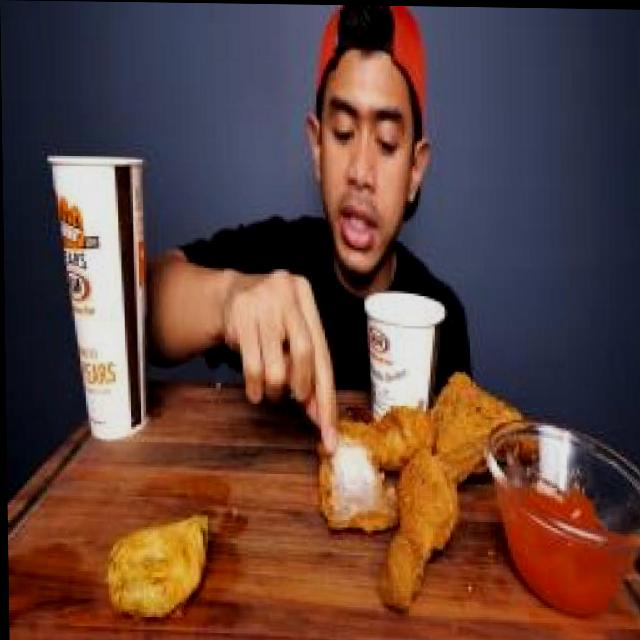AW cola: (37, 130, 155, 460)
crispy corn: (363, 281, 463, 430)
fried chicken: (314, 359, 525, 599)
perkedel: (91, 491, 217, 637)
